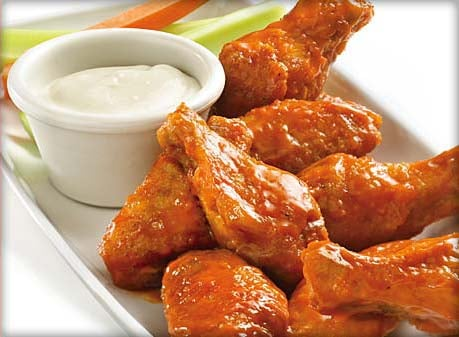pizza: (6, 27, 226, 209)
sushi: (3, 27, 226, 206)
